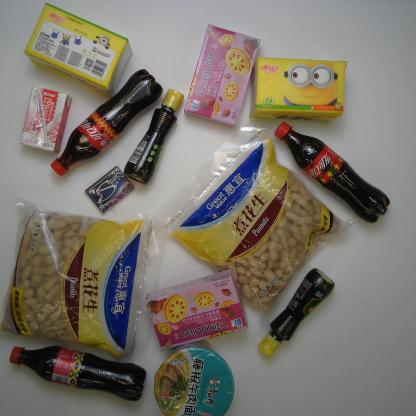Dessert: (142, 267, 250, 351), (181, 22, 262, 132)
Dried Food: (152, 116, 358, 326), (3, 194, 169, 363)
Drink: (46, 66, 164, 177), (270, 119, 392, 225), (8, 340, 150, 403)
Gum: (84, 161, 137, 214)
Instant Noodles: (152, 338, 236, 415)
Milk: (18, 85, 74, 155)
Seasoner: (257, 266, 336, 363), (122, 85, 187, 187)
Tissue: (22, 2, 134, 97), (246, 56, 350, 123)
